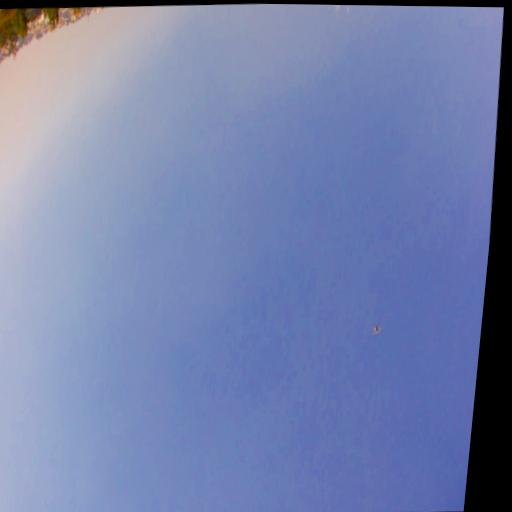drones: (369, 321, 384, 338)
